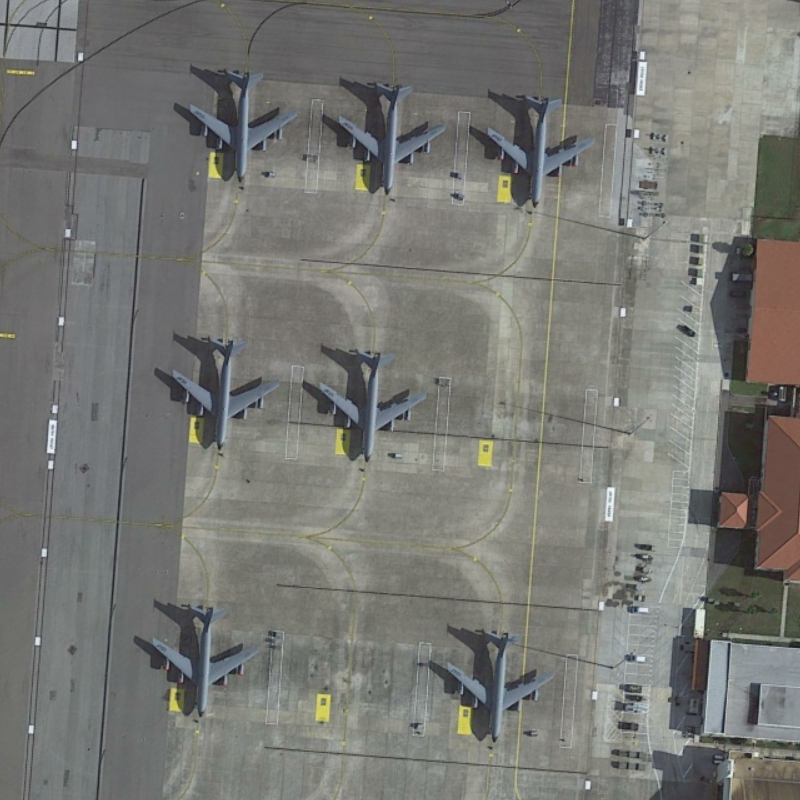A14: (182, 61, 304, 191), (438, 621, 560, 750), (308, 344, 432, 468), (475, 91, 597, 216), (165, 333, 287, 456), (332, 76, 450, 202), (147, 597, 264, 723)
